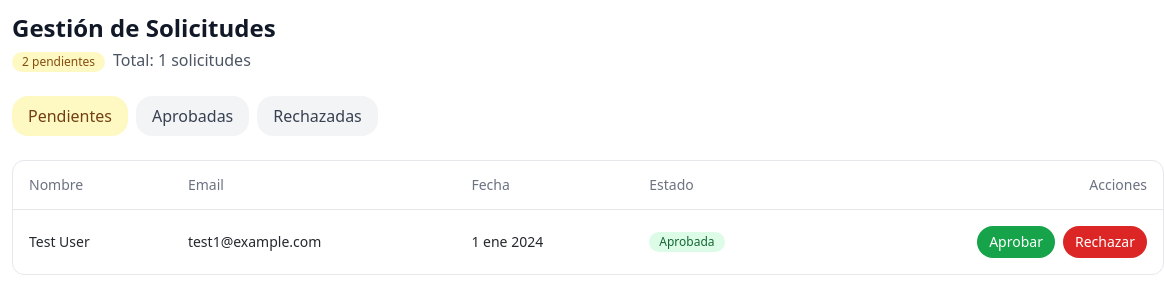
Test: AdminPendingList › should not show action buttons for non-pending signups
This screenshot has width=1164, height=292.
// Click on "Aprobadas" filter to show approved signups
Click the button "Aprobadas": (193, 116) left=136, top=96, right=249, bottom=136
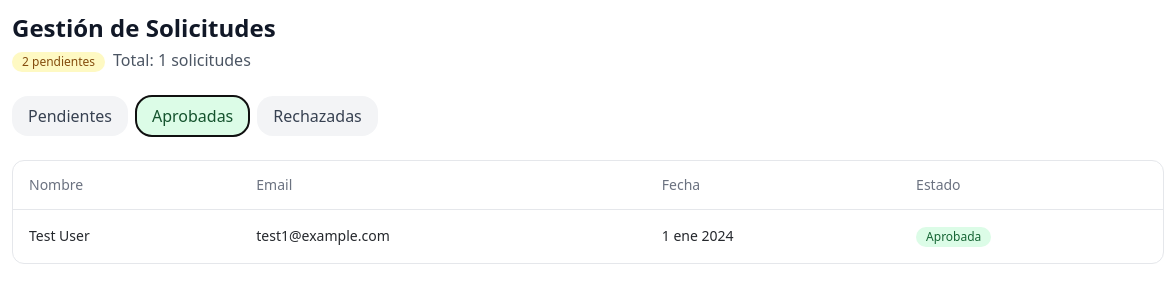
Expected: the button "Aprobar" is gone
Expected: the button "Rechazar" is gone
